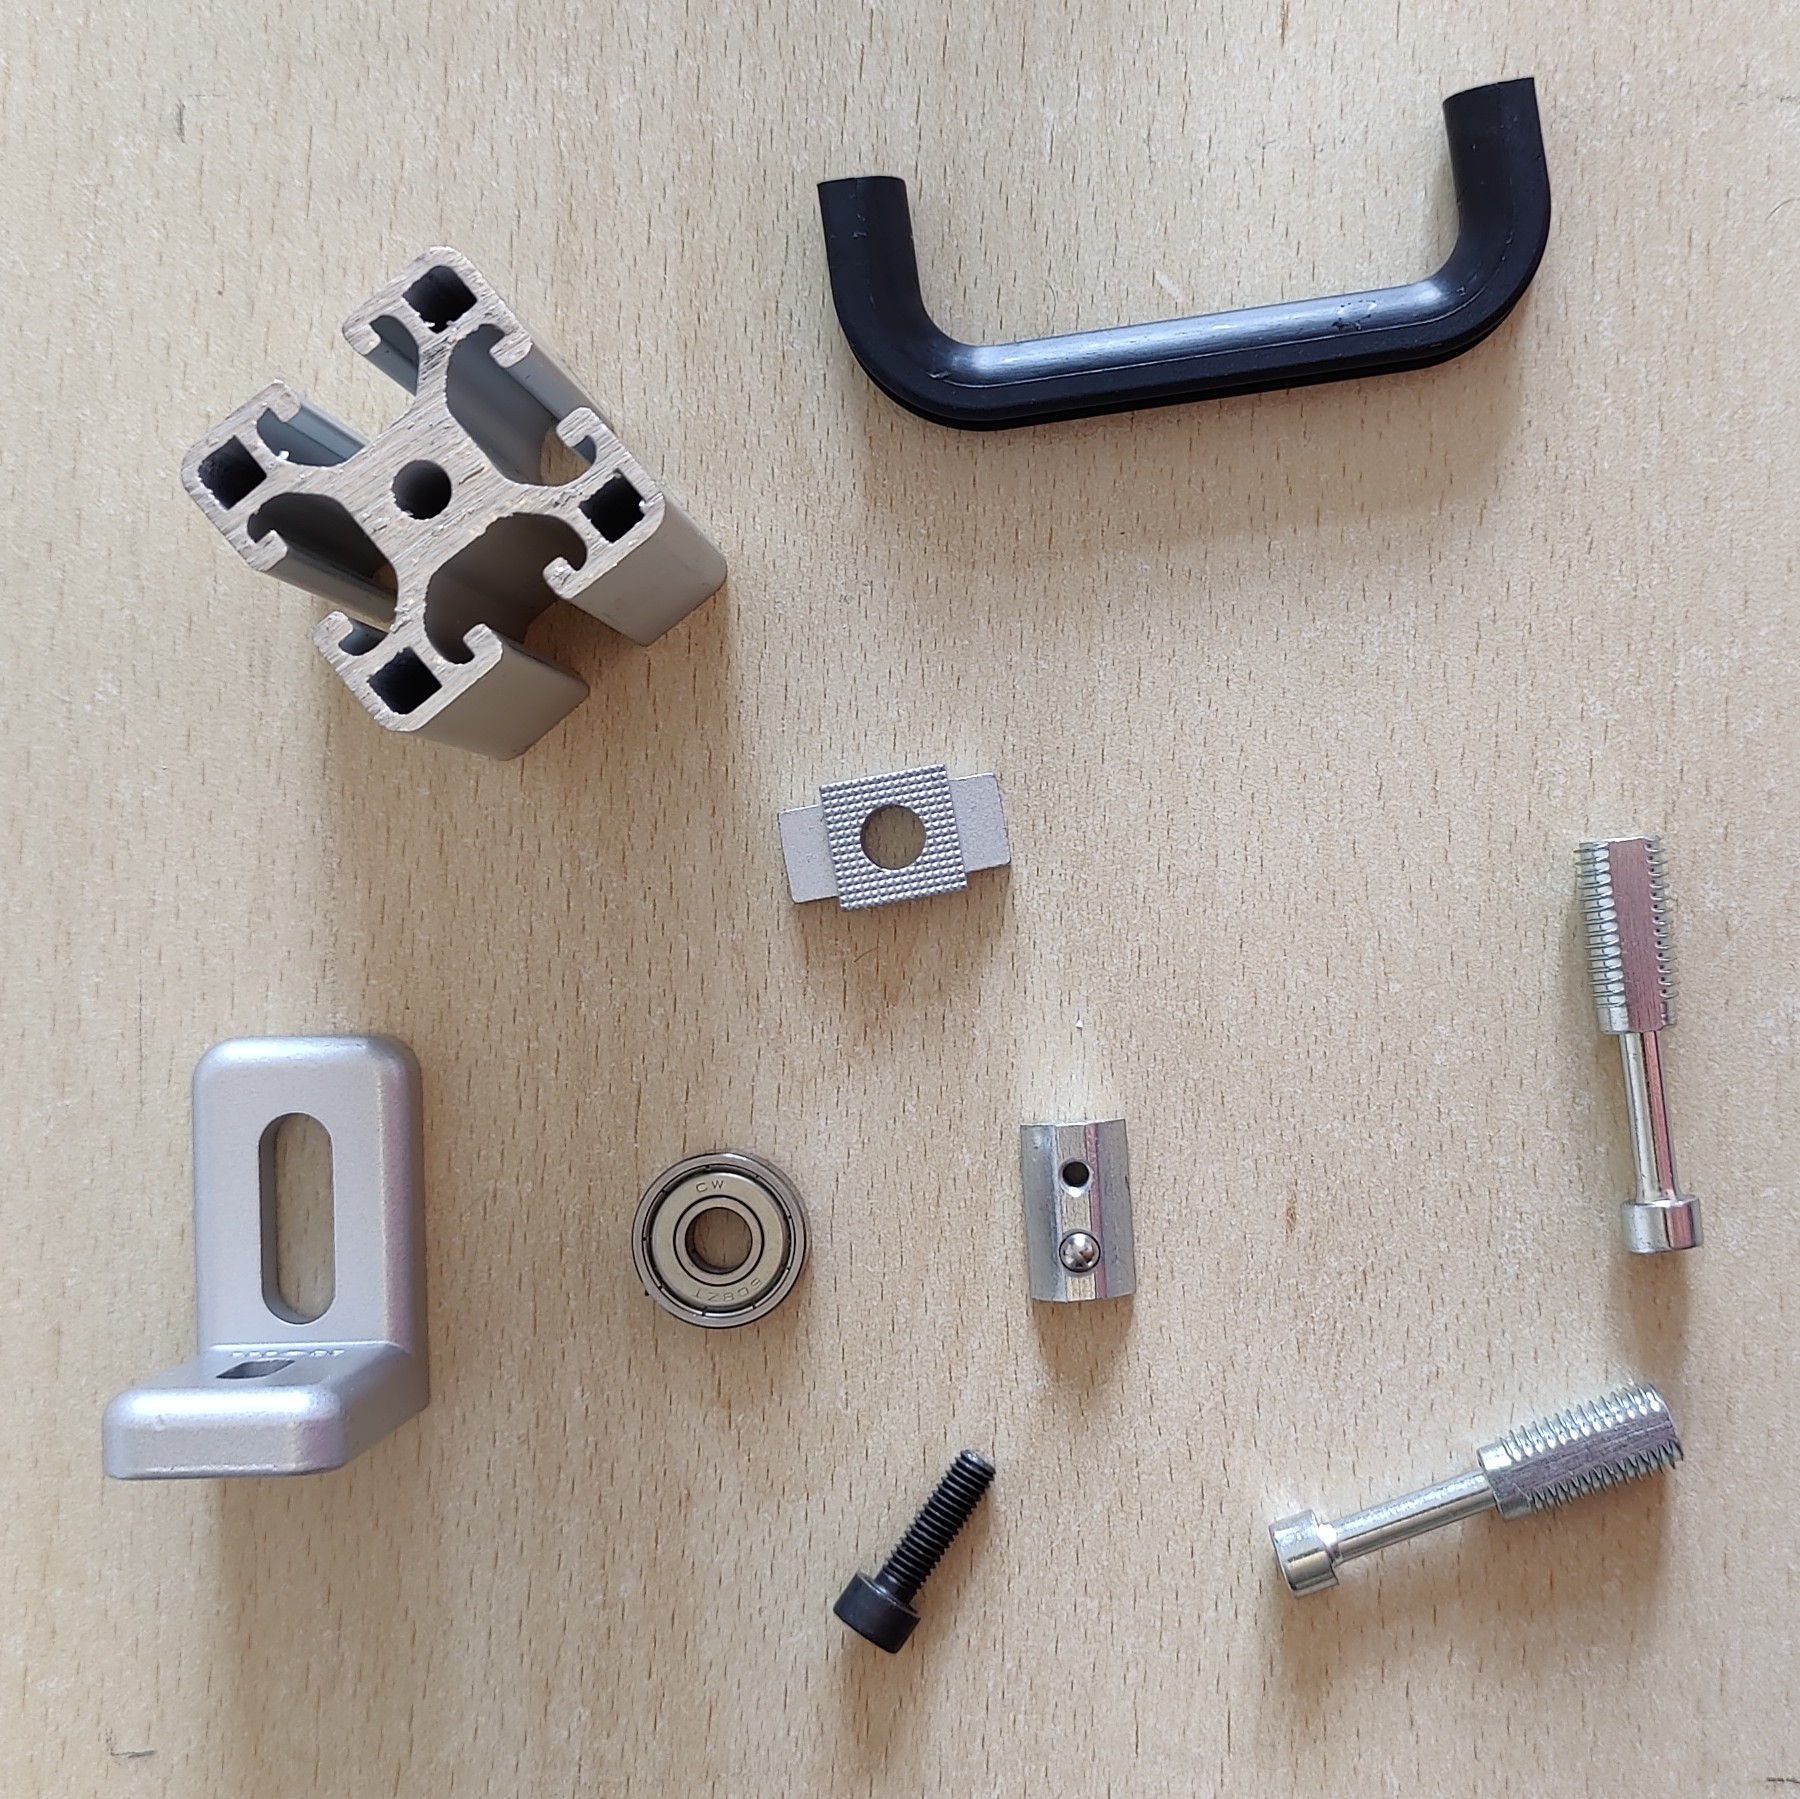Aluminium Extension: (176, 244, 731, 763)
Ball Bearing: (627, 1145, 815, 1333)
Multiwinkel: (99, 1030, 433, 1488)
Pull Handle: (815, 72, 1555, 433)
Shoulder Socket Head Cap Screw: (1266, 1381, 1690, 1605), (1568, 830, 1708, 1260)
Socket Head Cap Screw: (832, 1442, 1001, 1657)
T Nut Square: (776, 764, 1014, 918)
T Spring Nut: (1014, 1110, 1140, 1306)
